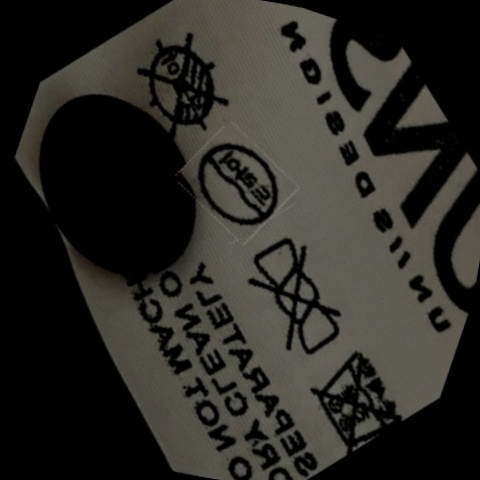DN_dry: (115, 18, 250, 155)
DN_wring: (219, 223, 371, 376)
dry_clean: (175, 121, 299, 247)
hand_wash: (290, 327, 421, 464)
